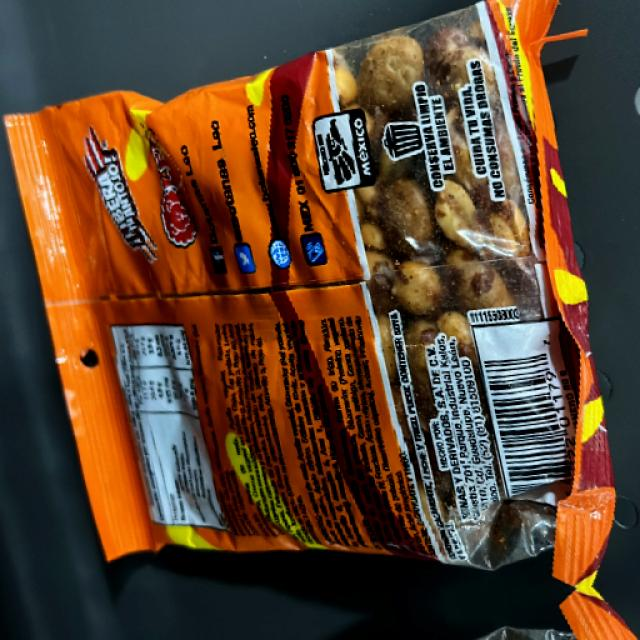productoAtras: (45, 96, 584, 570)
